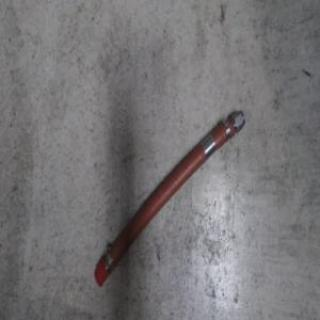Hosetrack_idkeyframe: (91, 107, 246, 289)
